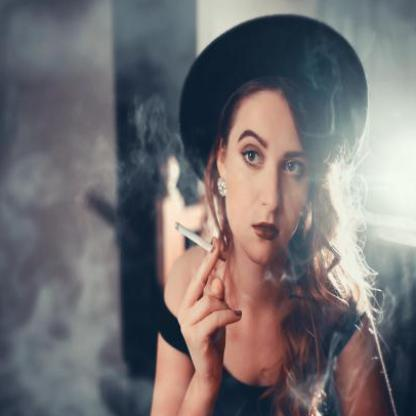cigarette: (173, 220, 227, 264)
person: (146, 69, 386, 416)
